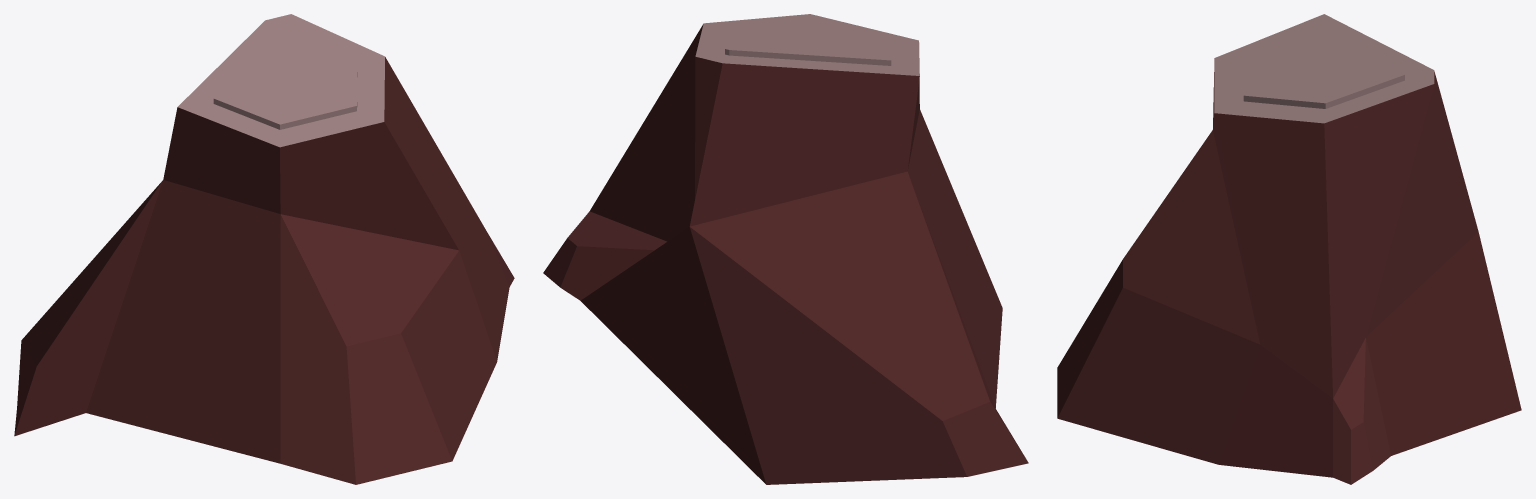
Rendered from treestomp_lowpoly.fbx.
3 views of the same model, side by side, from view 1: azimuth 30°, elevation 25°; view 2: azimuth 150°, elevation 25°; view 3: azimuth 270°, elevation 25° (orthographic). The views are drawn at different scales.
Parts seen in each view (by area): view 1: TreeStomp; view 2: TreeStomp; view 3: TreeStomp.
Part boxes in pixels (left/top/right/bottom): TreeStomp: left=14, top=14, right=514, bottom=484; TreeStomp: left=543, top=14, right=1028, bottom=484; TreeStomp: left=1057, top=14, right=1521, bottom=484.
Size of the model in its own units: 2.65 by 1.86 by 2.04.
